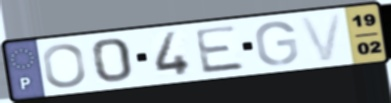0: (89, 37, 137, 84)
4: (151, 30, 194, 79)
E: (192, 23, 249, 76)
G: (253, 19, 301, 67)
O: (40, 42, 88, 90)
V: (296, 11, 346, 64)
